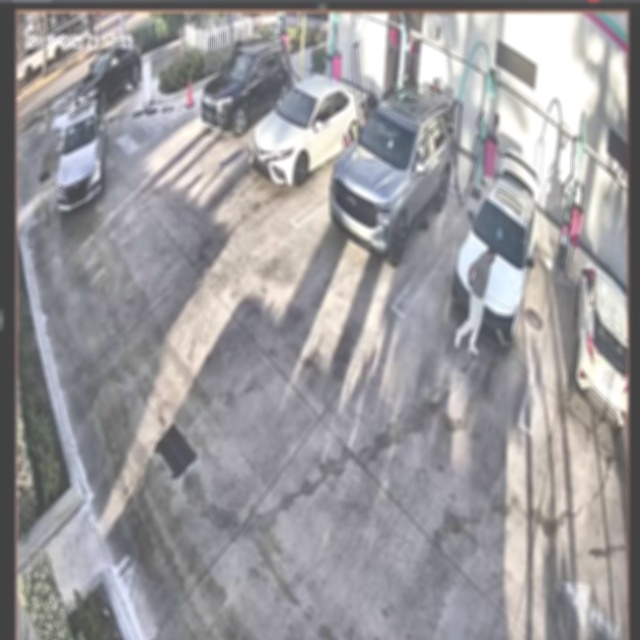Car: (331, 88, 455, 267), (456, 153, 536, 350), (247, 73, 366, 185)
